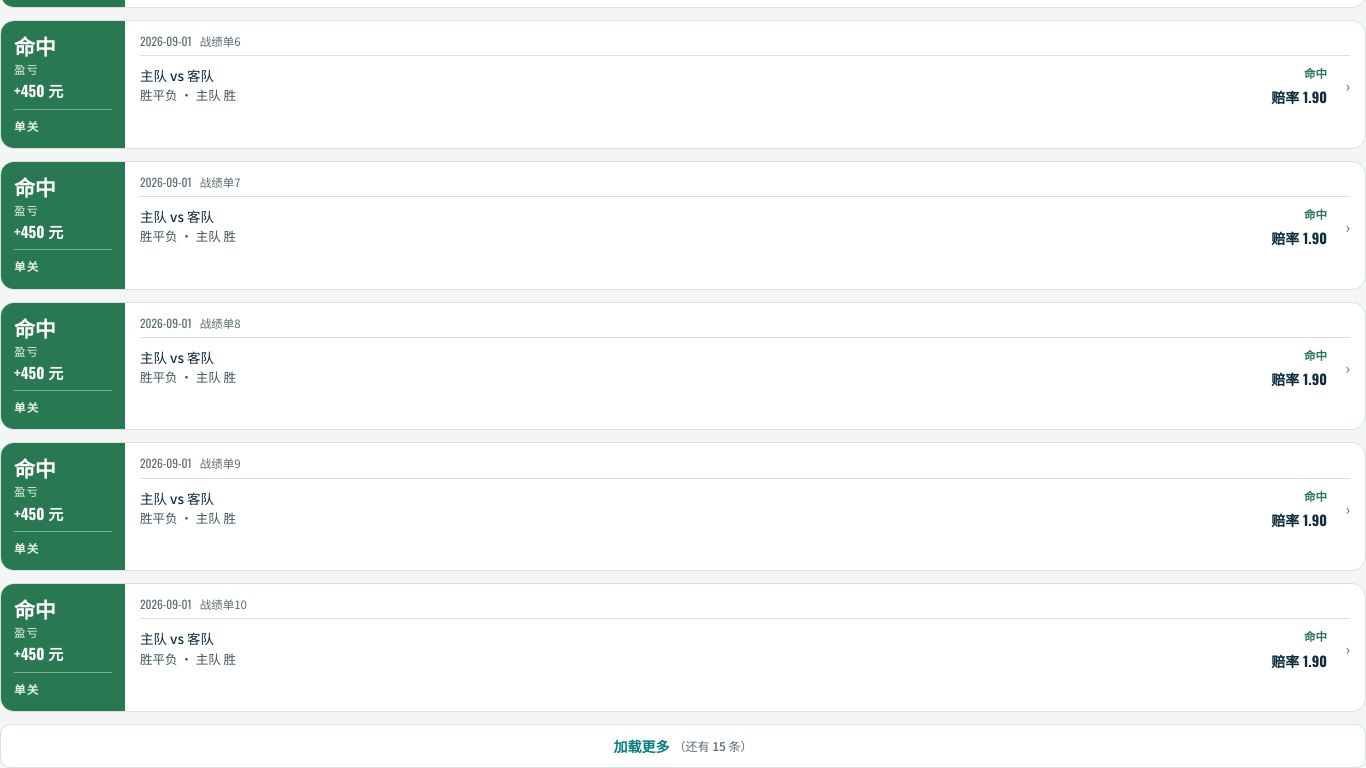
Test: TrackRecordPanel 加载更多 › 25 条战绩:默认 10 条,加载更多 → 20 → 25,最后按钮消失;标题里的总数仍是 25
(page scrolled)
Click the button "加载更多 （还有 15 条）".
click(683, 746)  # box x1=0 y1=724 x2=1365 y2=767
(page scrolled)
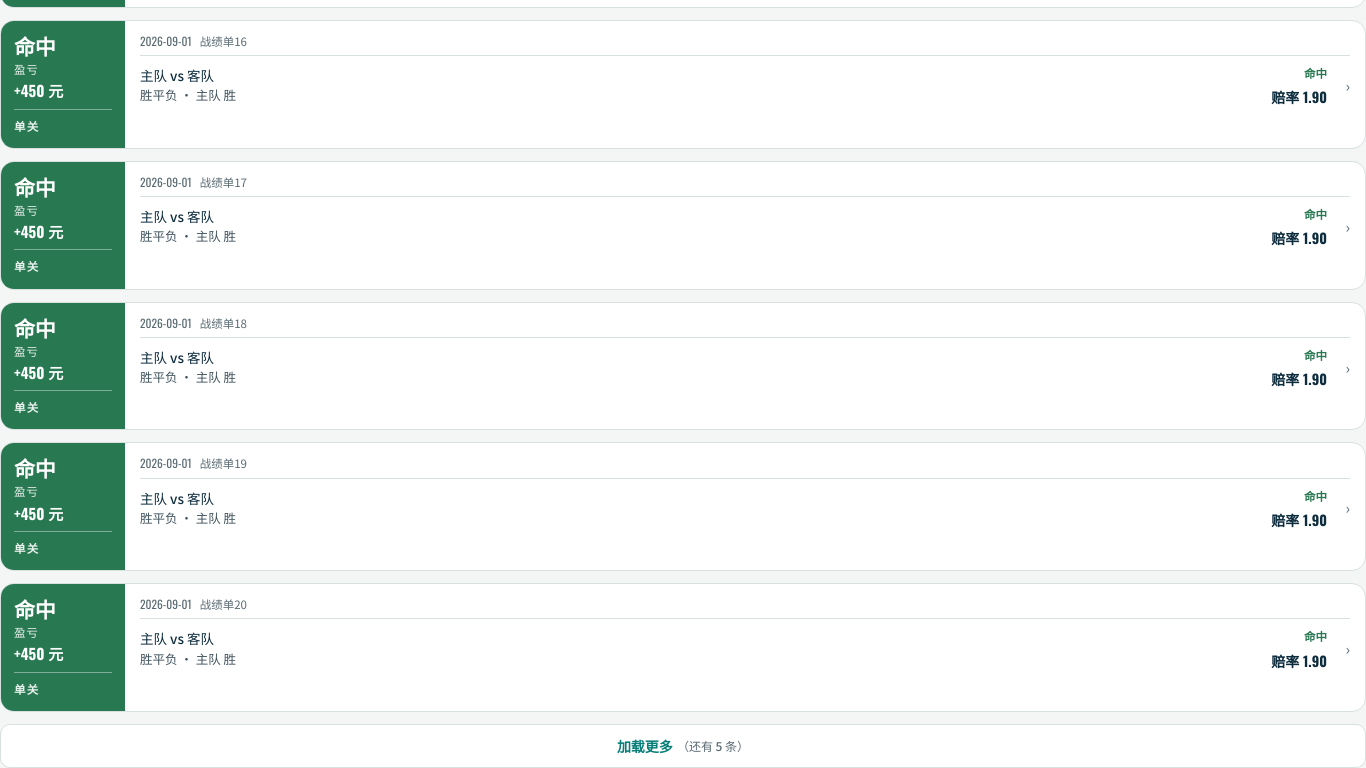
Click the button "加载更多 （还有 5 条）".
click(683, 746)  # box x1=0 y1=724 x2=1365 y2=767
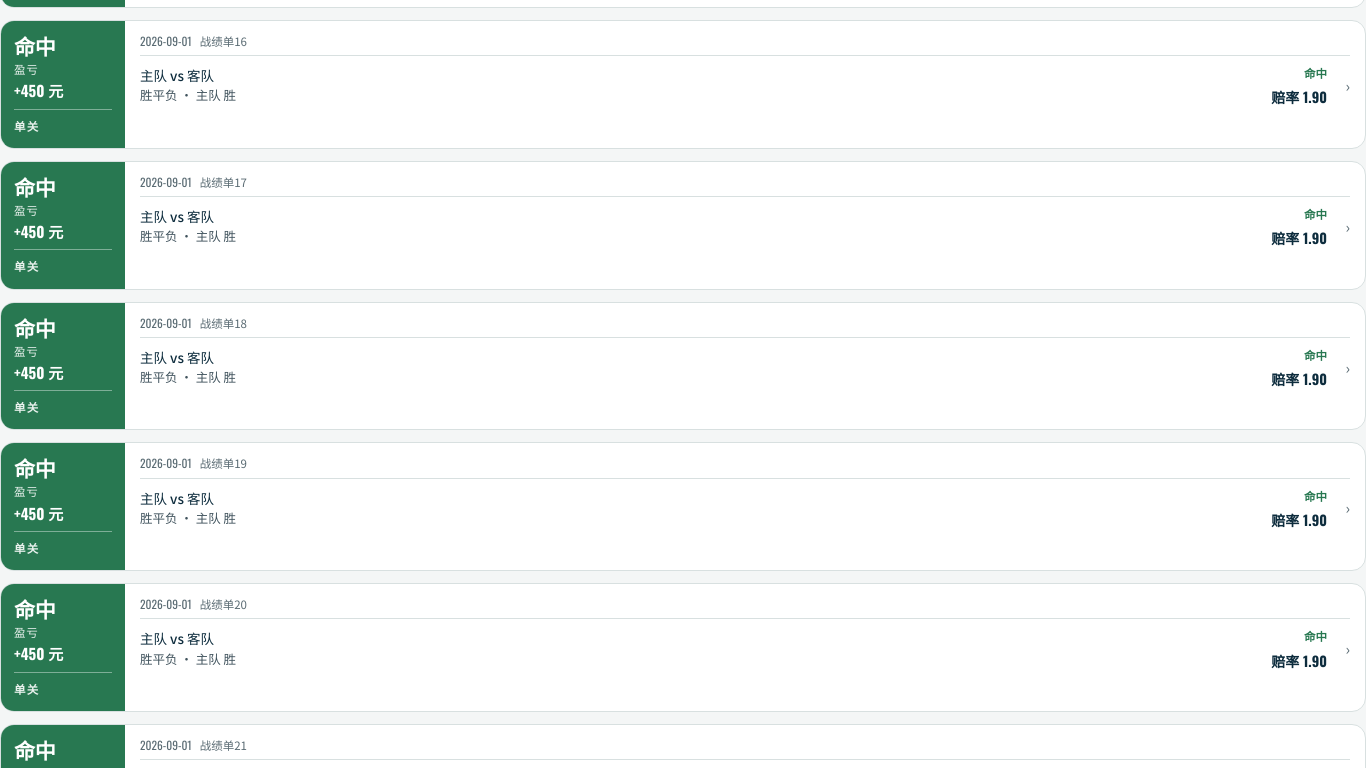
Result: the button "加载更多" is gone
